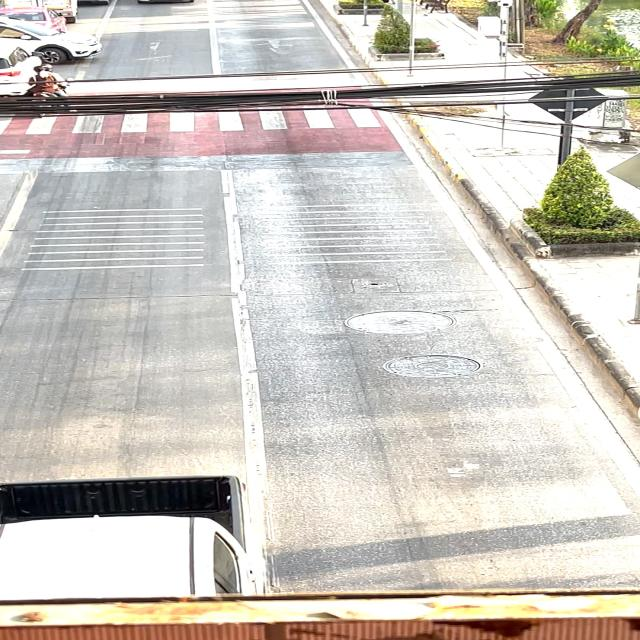car: (0, 457, 258, 606)
